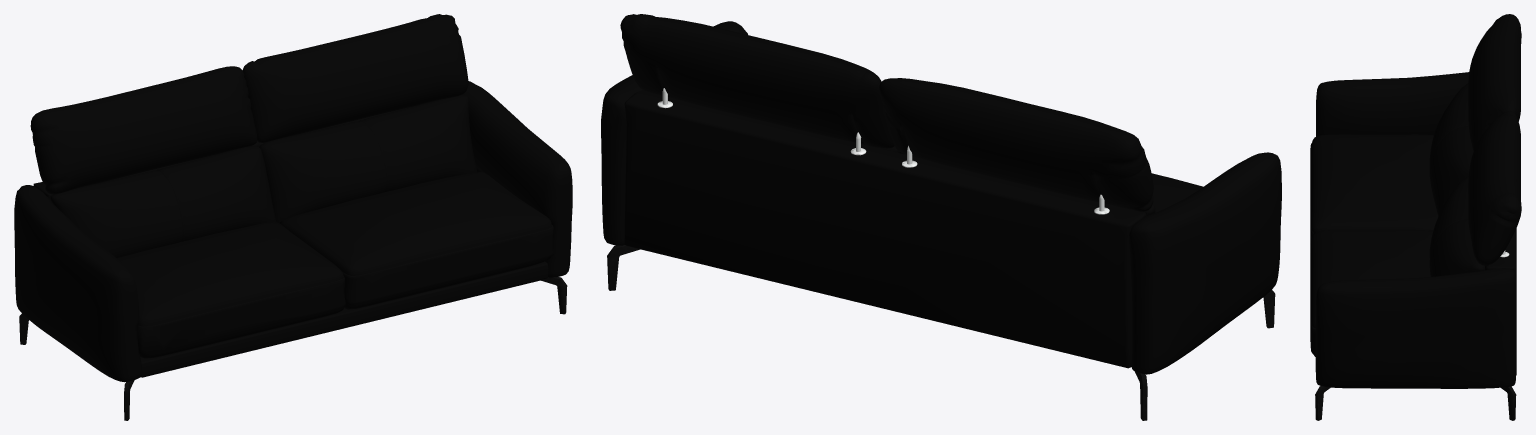
3 views of the same model, side by side, from view 1: azimuth 30°, elevation 25°; view 2: azimuth 150°, elevation 25°; view 3: azimuth 270°, elevation 25° (orthographic). The views are drawn at different scales.
Visible parts, largest first — view 1: RootNode; view 2: RootNode; view 3: RootNode.
Part boxes in pixels (x1,y1,x2,y2): RootNode: [14, 14, 572, 420]; RootNode: [601, 14, 1281, 420]; RootNode: [1310, 14, 1521, 420].
Bounding box in the file's own units: 2.07 × 0.9566 × 0.8561.
1 material, 1 textured.
